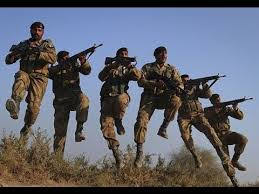gun: (55, 37, 105, 72), (181, 65, 228, 100), (145, 66, 182, 103), (5, 41, 58, 64), (201, 94, 257, 115), (101, 54, 143, 75)
uniform: (7, 36, 52, 138), (99, 58, 136, 169), (141, 62, 178, 173), (202, 106, 252, 179), (52, 62, 89, 158), (177, 87, 213, 168)
